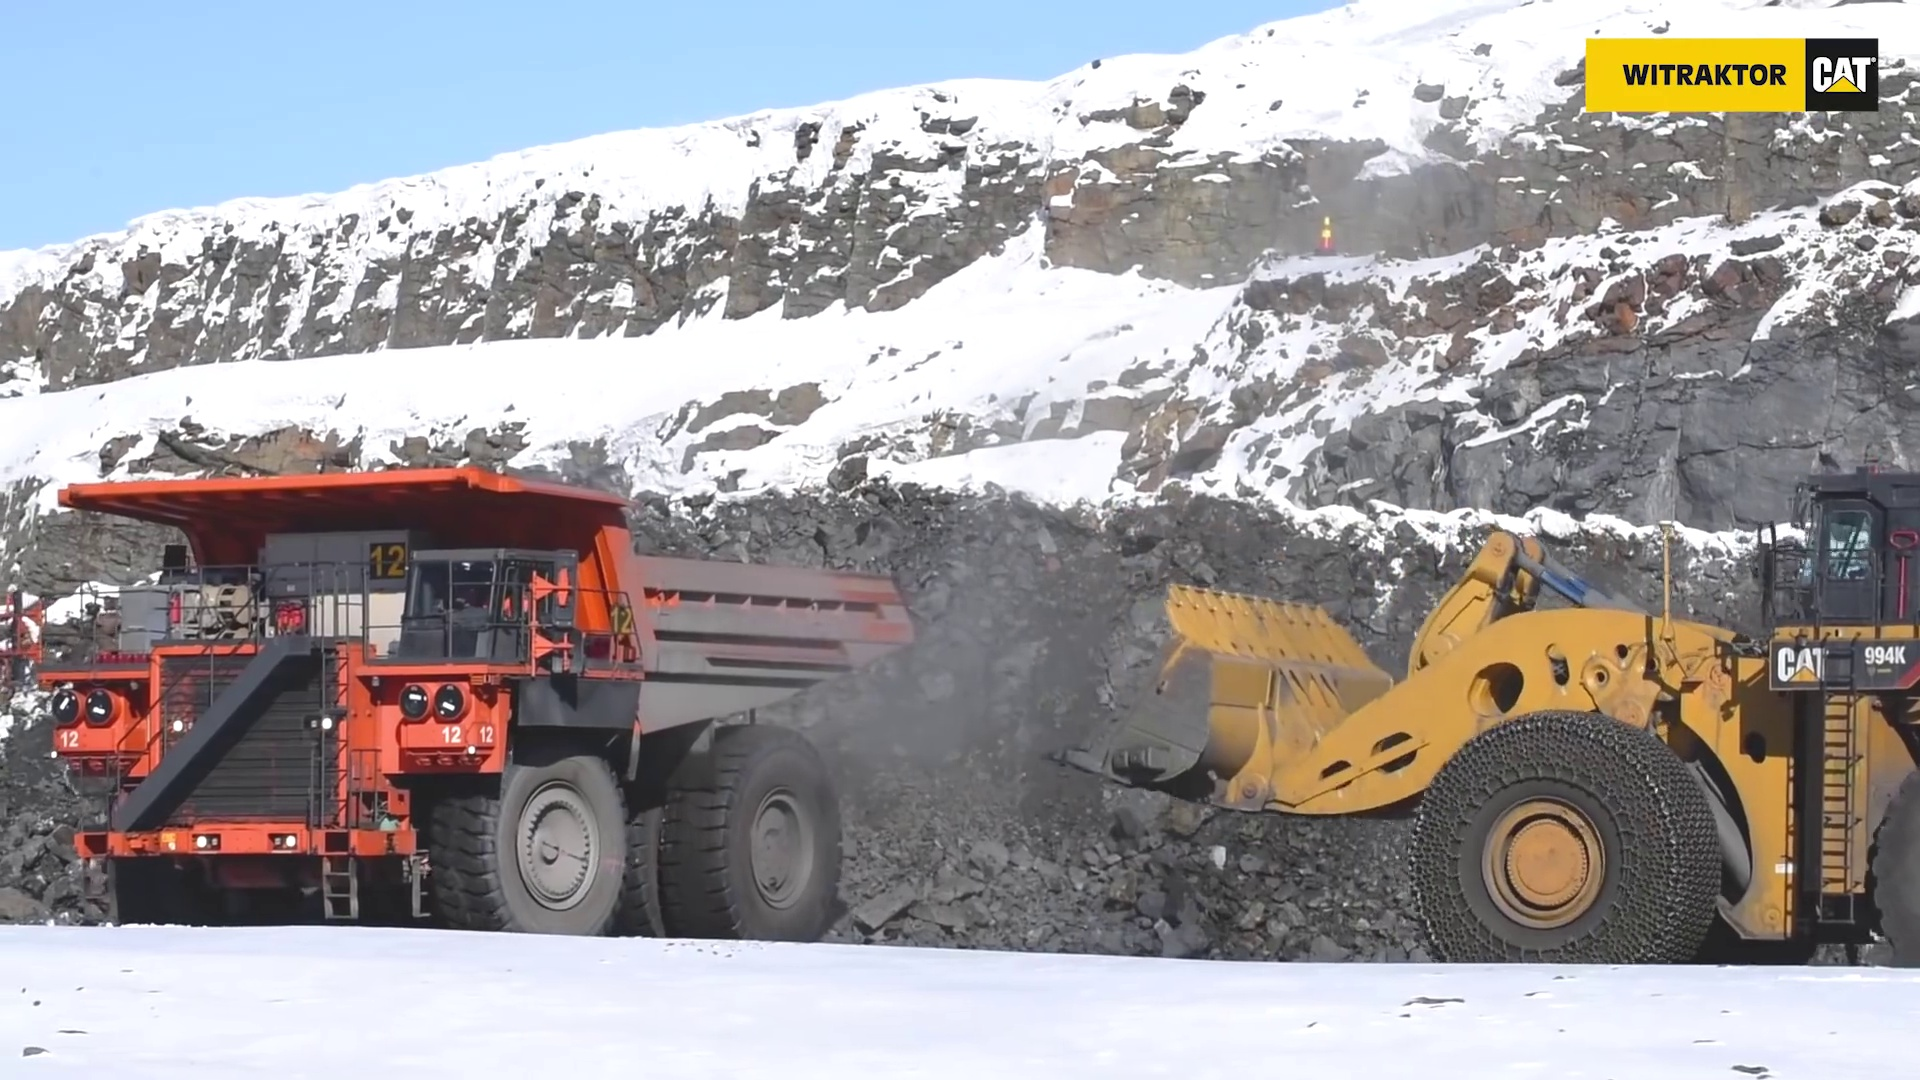dumper: (37, 463, 918, 944)
wheel loader: (1042, 456, 1920, 967)
